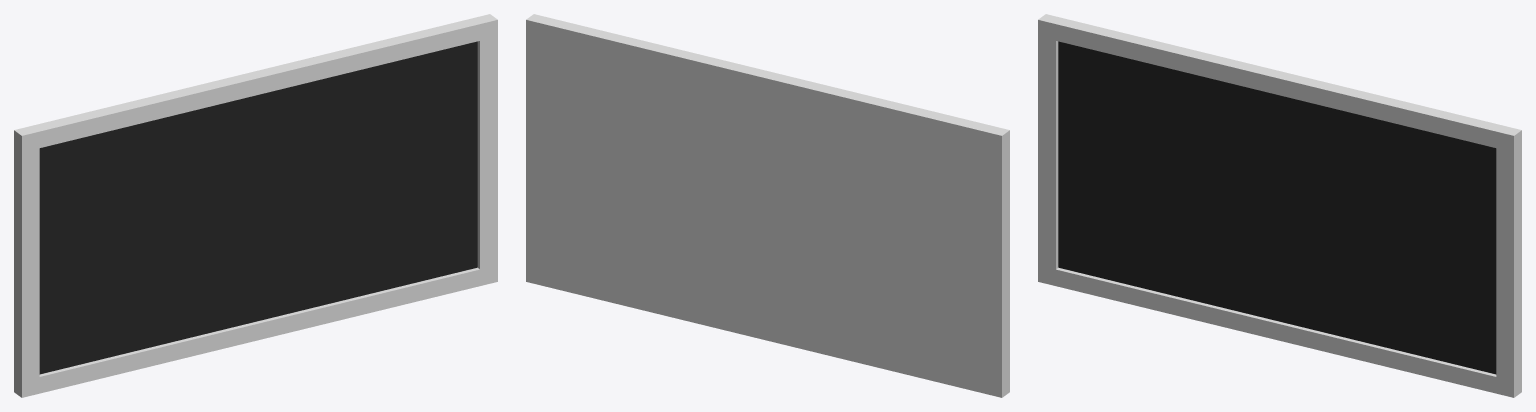
The model's file is Itr_Obj_Monitor_LCD_Screen_Off_04.FBX.
3 views of the same model, side by side, from view 1: azimuth 30°, elevation 25°; view 2: azimuth 150°, elevation 25°; view 3: azimuth 330°, elevation 25° (orthographic).
Parts seen in each view (by area): view 1: Itr_Obj_Monitor_LCD_Screen_Off_04; view 2: Itr_Obj_Monitor_LCD_Screen_Off_04; view 3: Itr_Obj_Monitor_LCD_Screen_Off_04.
Boxes of the visible parts, bbox=[...] form: Itr_Obj_Monitor_LCD_Screen_Off_04: bbox=[14, 14, 497, 397]; Itr_Obj_Monitor_LCD_Screen_Off_04: bbox=[526, 14, 1009, 397]; Itr_Obj_Monitor_LCD_Screen_Off_04: bbox=[1038, 14, 1521, 397].
Size of the model in its own units: 66.79 by 35.13 by 1.92.
